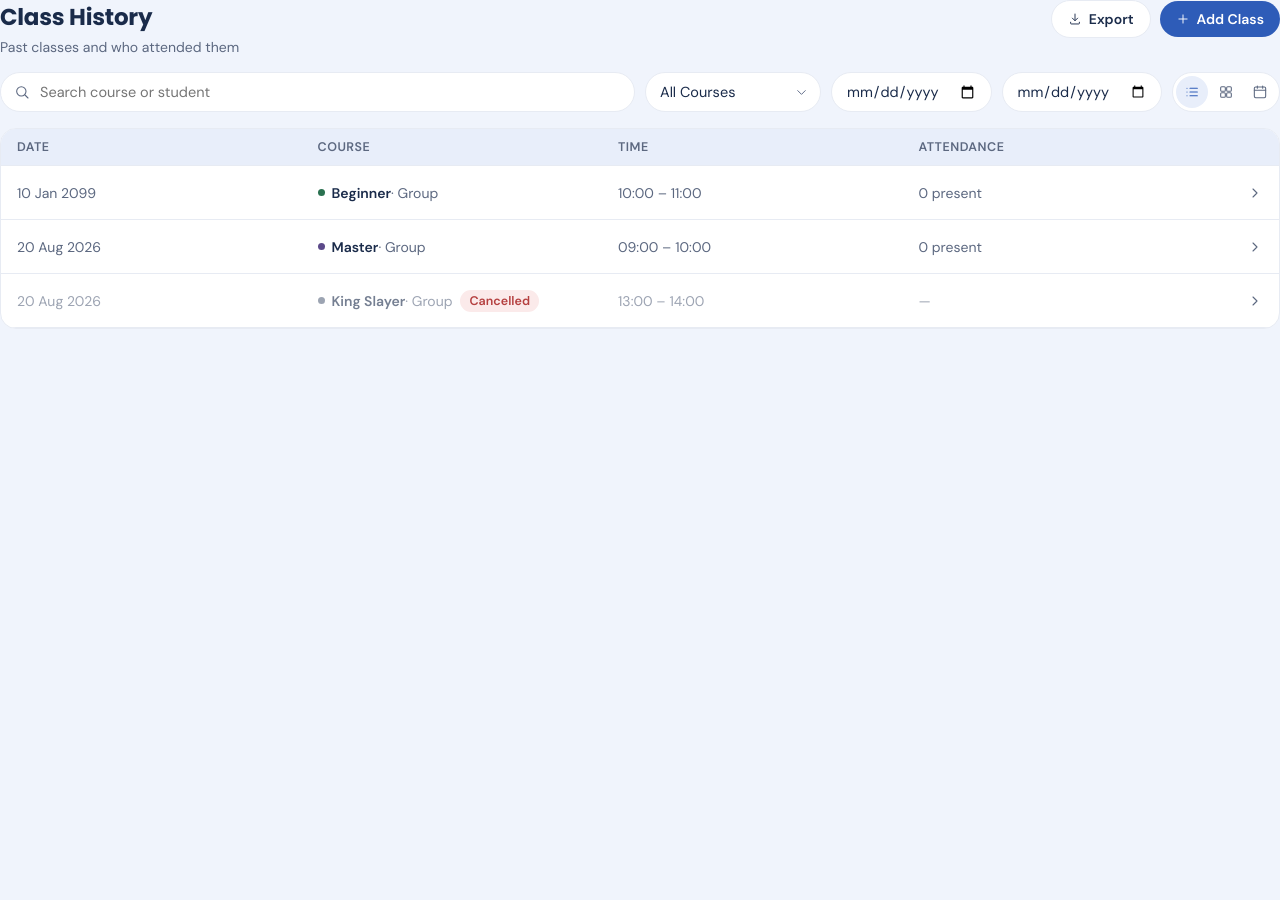
Test: class history actions › adds a class on the dashboard's panel, with a date from today on
Click the button "Add Class".
click(1220, 19)  # box [1160, 1, 1279, 37]
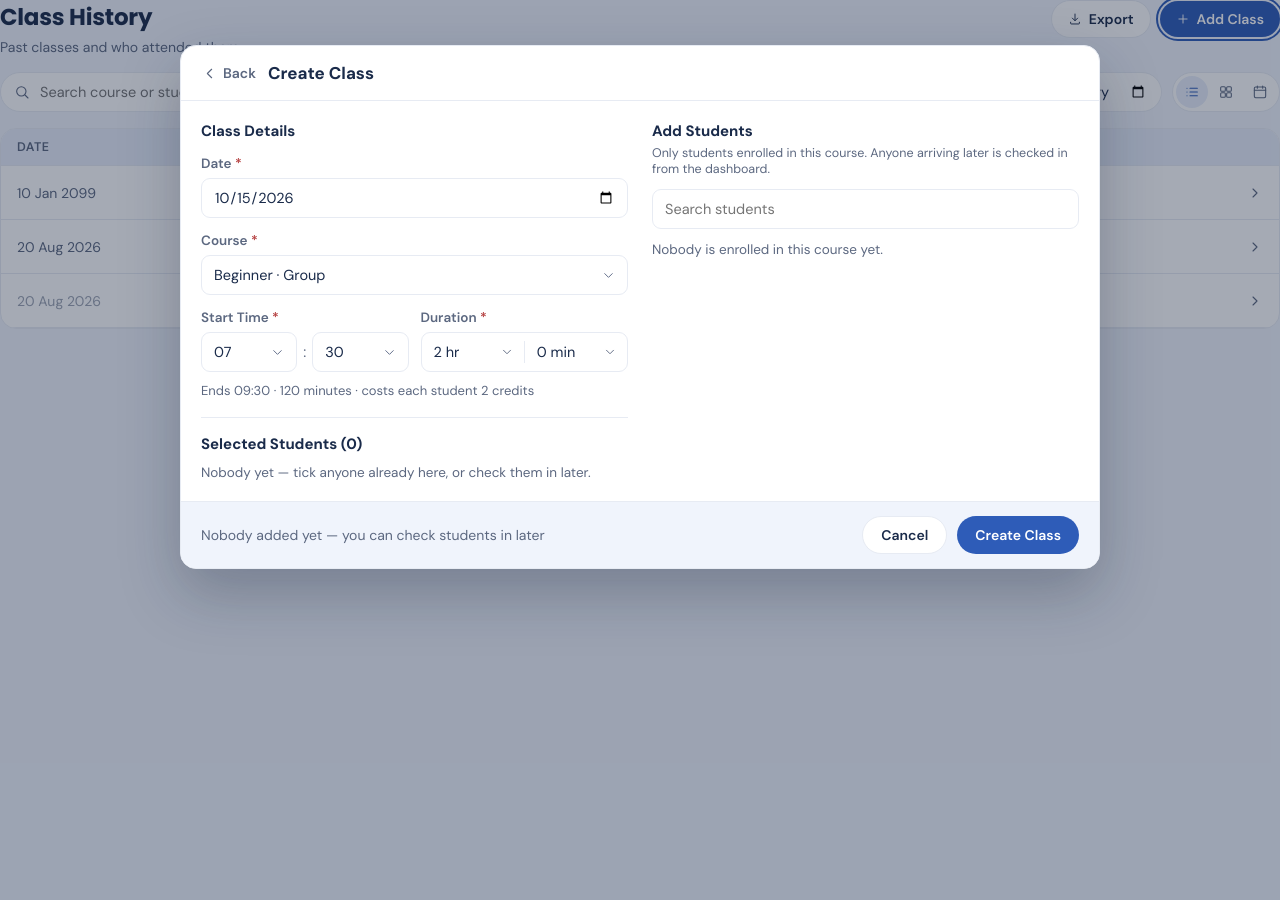
expect the dropdown labelled "Course *" is shown: met, box [201, 255, 628, 295]
expect the button "Create Class" is shown: met, box [957, 516, 1079, 554]
